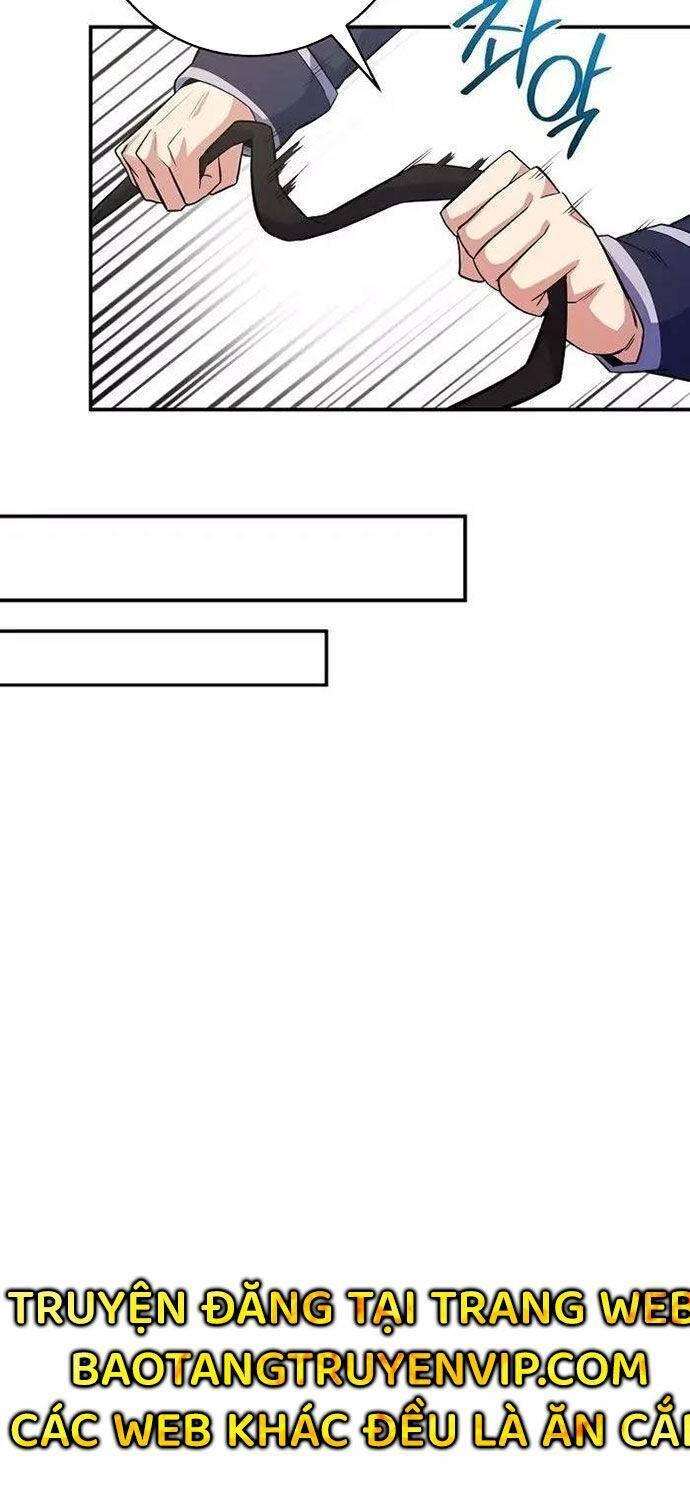quangcao: (0, 1276, 690, 1468)
